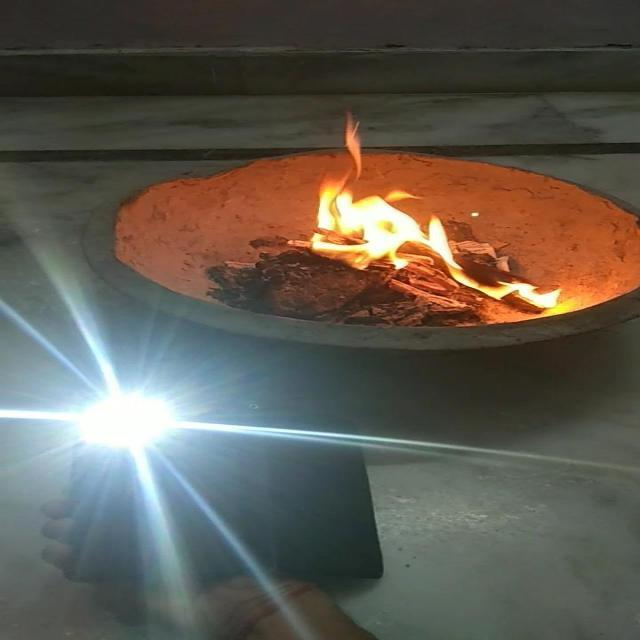fire: (276, 125, 599, 326)
smoke: (0, 317, 237, 477)
